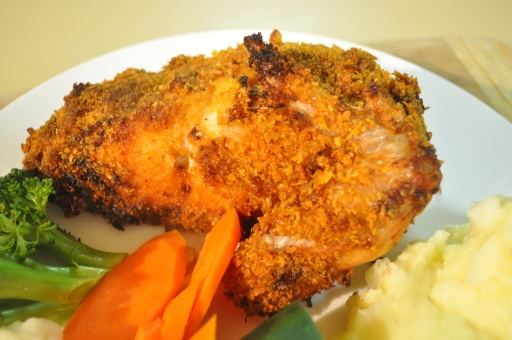background: (1, 15, 409, 180)
